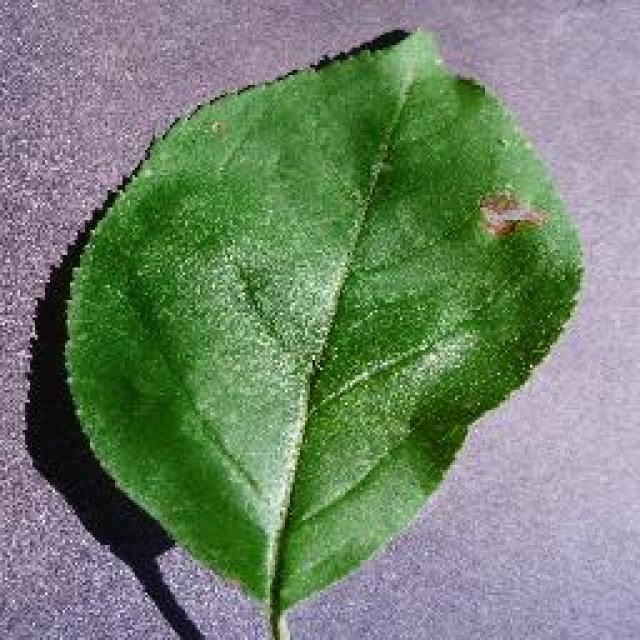Black_rot: (57, 25, 585, 637)
